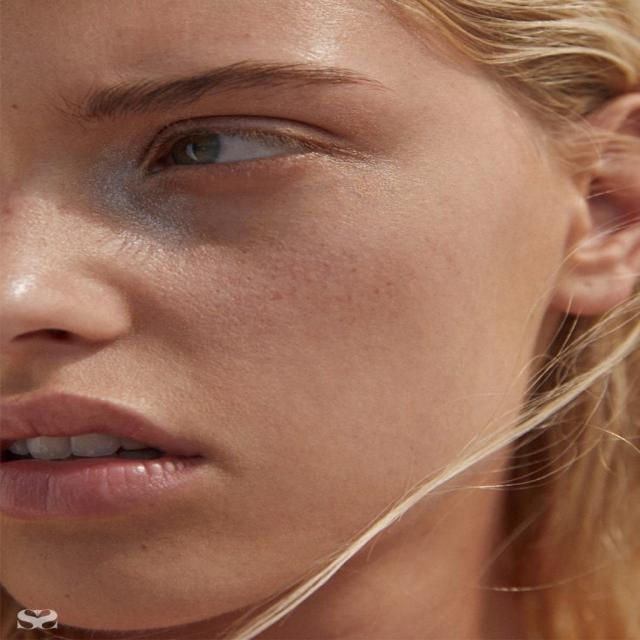Oily-Skin: (0, 138, 191, 357), (208, 5, 402, 66)
